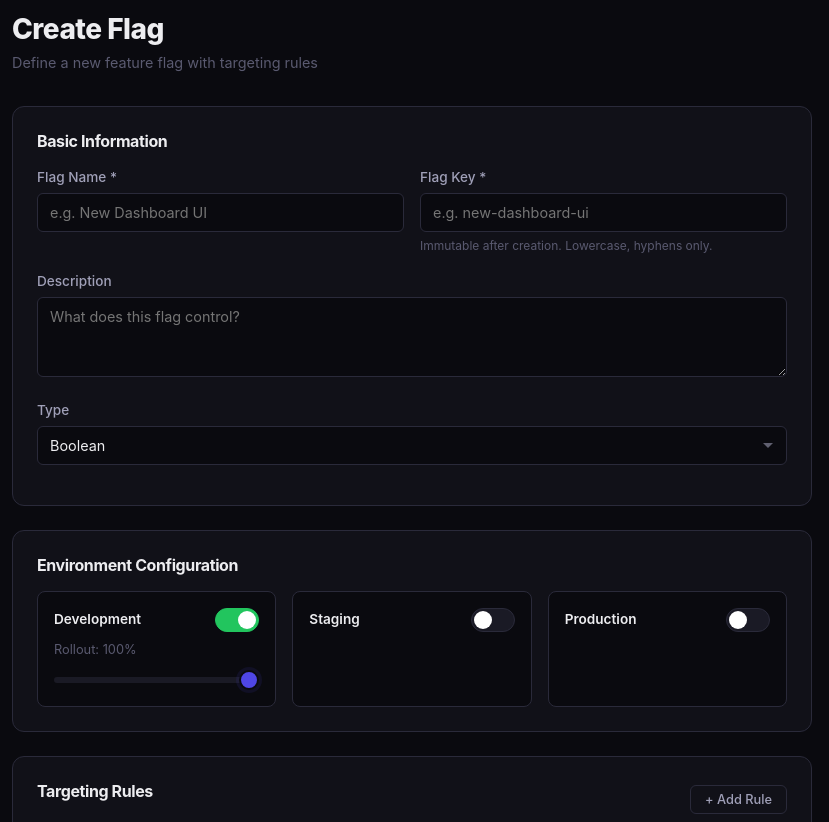
it: FlagCreatePage › auto-generates flag key from name input
In the field labelled "Flag Name *": (220, 212) 37,193 -> 404,232, type "My New Feature"
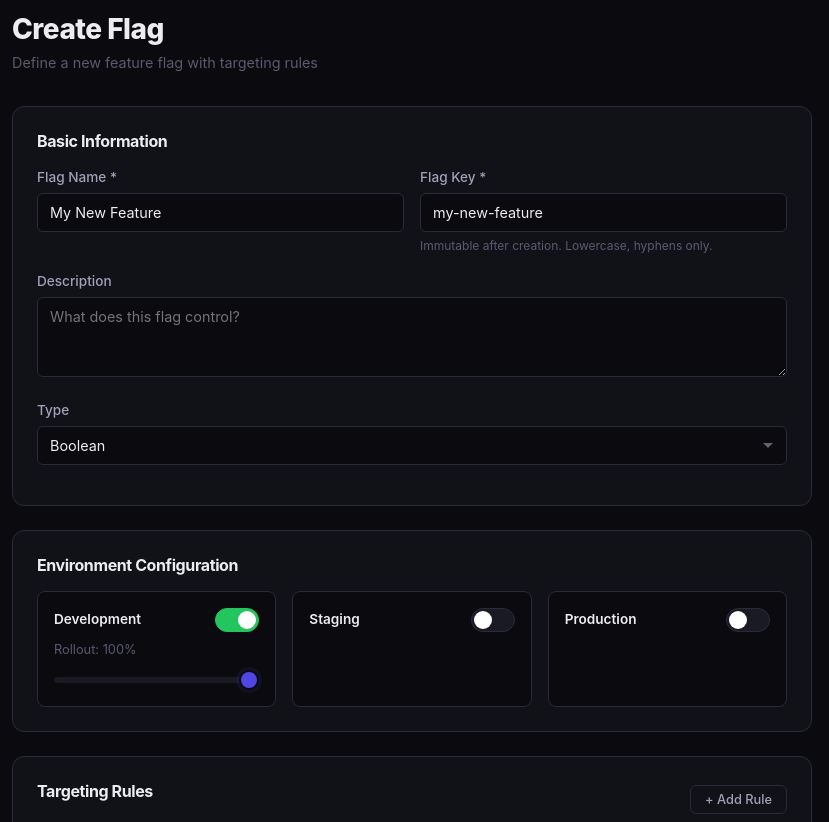
Check: the field labelled "Flag Key *" holds "my-new-feature", box 420,193 -> 787,232
